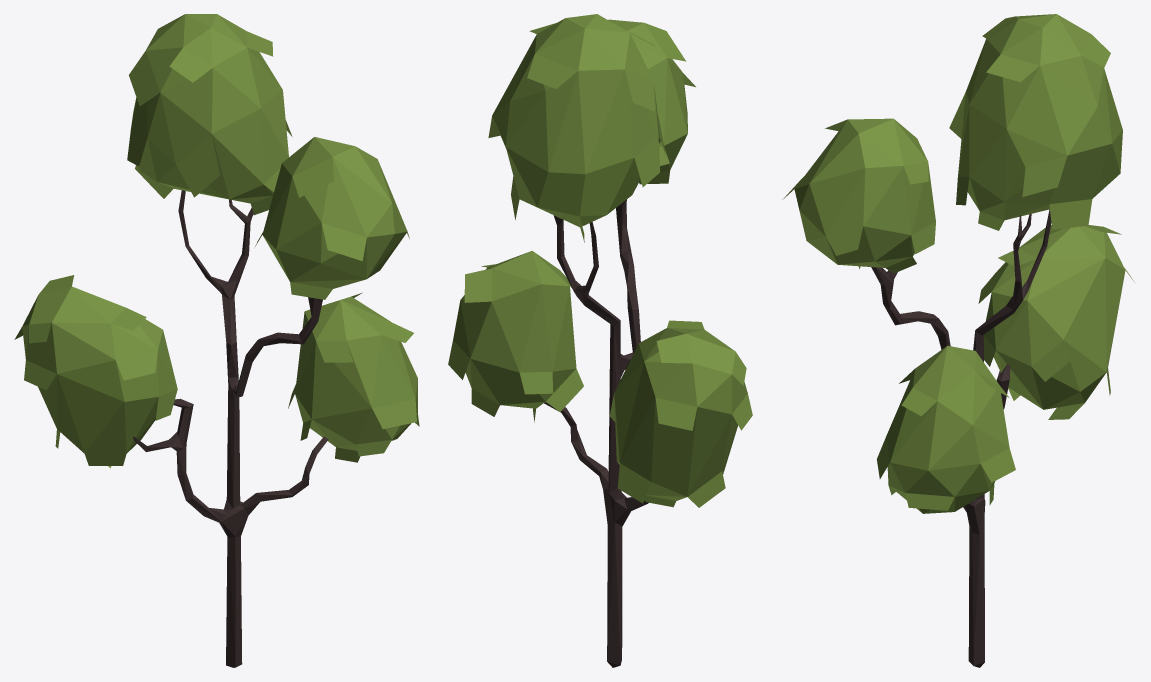
Rendered from Tree_Forest_Green_04.glb.
3 views of the same model, side by side, from view 1: azimuth 30°, elevation 25°; view 2: azimuth 150°, elevation 25°; view 3: azimuth 270°, elevation 25° (orthographic). The views are drawn at different scales.
Parts seen in each view (by area): view 1: Tree_Forest_Green_04; view 2: Tree_Forest_Green_04; view 3: Tree_Forest_Green_04.
Part boxes in pixels (x1,y1,x2,y2): Tree_Forest_Green_04: (14, 14, 419, 667); Tree_Forest_Green_04: (448, 14, 752, 667); Tree_Forest_Green_04: (782, 14, 1134, 667).
Size of what is drawn, in the model's own units: 4.26 by 7.9 by 3.92.
1 material, 1 textured.
